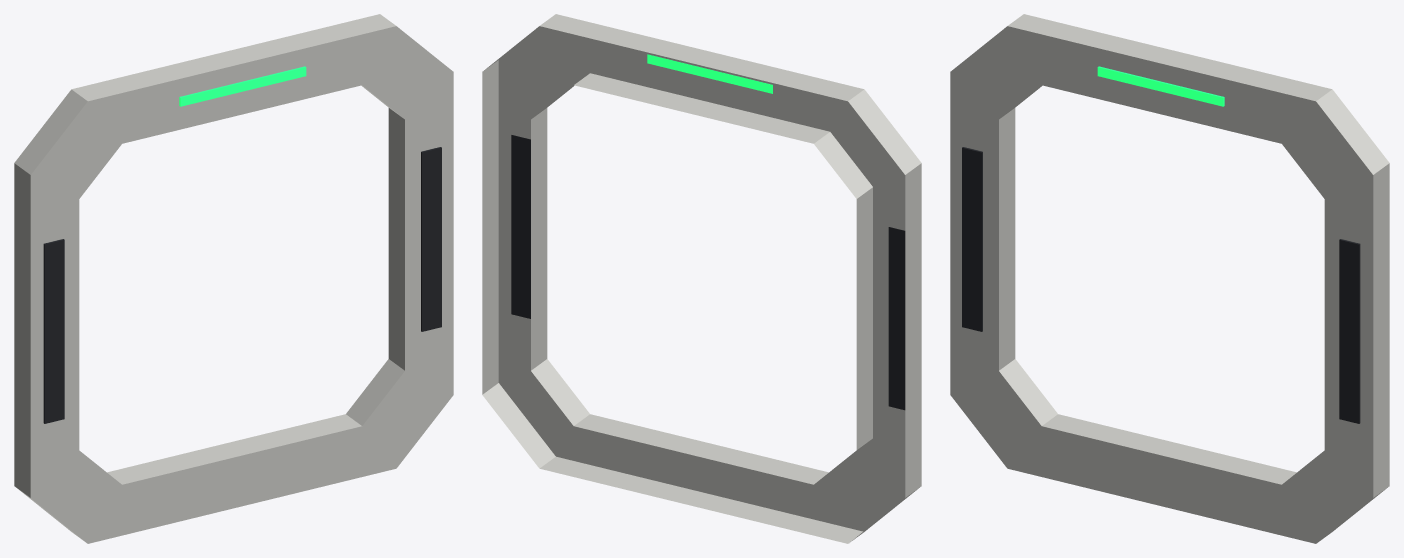
Rendered from SM_Portal_RFID.fbx.
3 renders of one model, left to right at view 1: azimuth 30°, elevation 25°; view 2: azimuth 150°, elevation 25°; view 3: azimuth 330°, elevation 25°, orthographic.
Parts seen in each view (by area): view 1: SM_Portal_RFID; view 2: SM_Portal_RFID; view 3: SM_Portal_RFID.
Boxes of the visible parts, box(x1,y1,x2,y2) form: SM_Portal_RFID: box(14, 14, 453, 543); SM_Portal_RFID: box(482, 14, 921, 543); SM_Portal_RFID: box(950, 14, 1389, 543).
Size of the model in its own units: 1.48 by 1.48 by 0.107.
